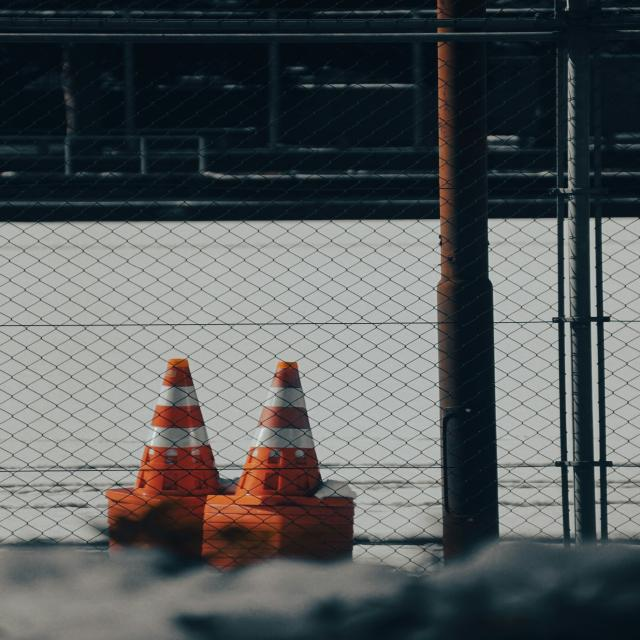Traffic Cone: (83, 344, 240, 513), (213, 350, 353, 517)
